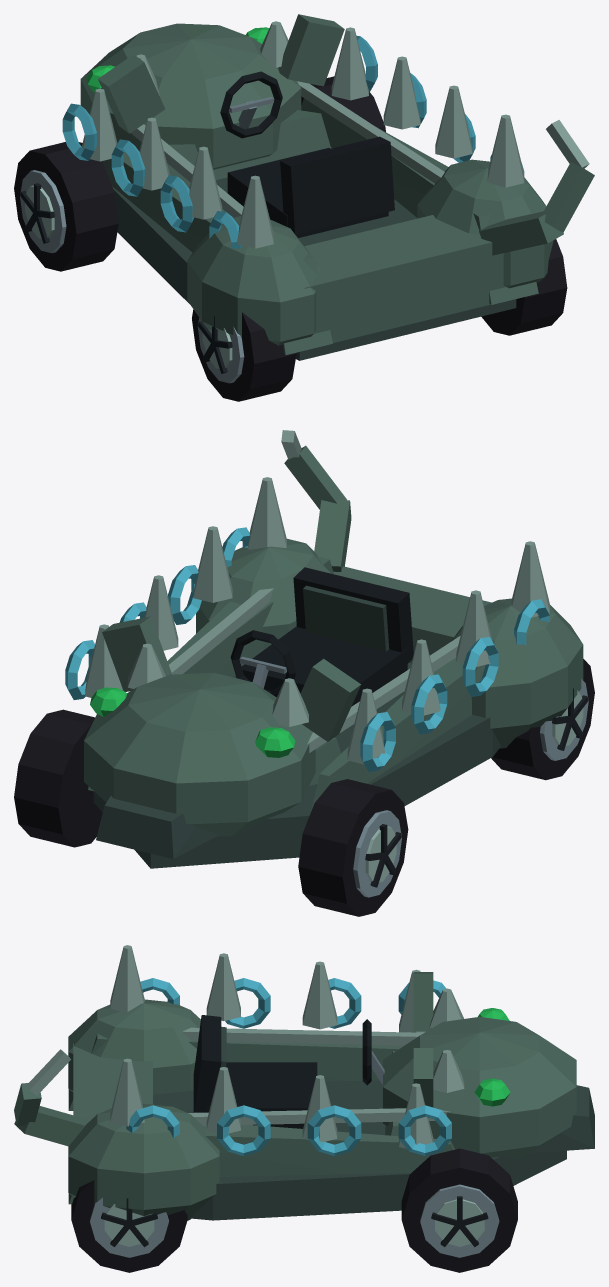
File: kart.glb
3 renders of one model, top to bottom at view 1: azimuth 30°, elevation 25°; view 2: azimuth 150°, elevation 25°; view 3: azimuth 270°, elevation 25°, orthographic. The views are drawn at different scales.
Parts seen in each view (by area): view 1: identity-beast-beast-sculpted-prow-and-haunches, identity-beast-motif-spines, identity-beast-driver-cockpit, wheel-front-left, wheel-rear-left, identity-beast-motif-water, identity-beast-motif-tail, wheel-rear-right, wheel-front-right; view 2: identity-beast-beast-sculpted-prow-and-haunches, identity-beast-driver-cockpit, identity-beast-motif-spines, wheel-front-left, wheel-front-right, identity-beast-motif-water, wheel-rear-left, identity-beast-motif-tail; view 3: identity-beast-beast-sculpted-prow-and-haunches, wheel-front-right, identity-beast-motif-spines, identity-beast-motif-water, identity-beast-driver-cockpit, wheel-rear-right, identity-beast-motif-tail.
Part boxes in pixels (x1,y1,x2,y2): identity-beast-beast-sculpted-prow-and-haunches: (80, 14, 553, 360); identity-beast-motif-spines: (81, 27, 524, 248); identity-beast-driver-cockpit: (220, 71, 394, 237); wheel-front-left: (14, 142, 118, 271); wheel-rear-left: (192, 309, 296, 401); identity-beast-motif-water: (62, 35, 524, 248); identity-beast-motif-tail: (479, 120, 594, 255); wheel-rear-right: (481, 239, 567, 335); wheel-front-right: (301, 76, 385, 131); identity-beast-beast-sculpted-prow-and-haunches: (84, 538, 583, 868); identity-beast-driver-cockpit: (230, 567, 413, 706); identity-beast-motif-spines: (84, 477, 549, 764); wheel-front-left: (298, 779, 408, 916); wheel-front-right: (14, 709, 102, 847); identity-beast-motif-water: (65, 527, 549, 771); wheel-rear-left: (491, 659, 594, 780); identity-beast-motif-tail: (281, 430, 351, 571); identity-beast-beast-sculpted-prow-and-haunches: (68, 972, 594, 1220); wheel-front-right: (401, 1148, 517, 1272); identity-beast-motif-spines: (110, 945, 433, 1148); identity-beast-motif-water: (126, 978, 451, 1156); identity-beast-driver-cockpit: (193, 1015, 384, 1128); wheel-rear-right: (71, 1180, 187, 1272); identity-beast-motif-tail: (14, 1049, 89, 1146).
Size of the model in its own units: 2.01 by 1.3 by 3.2.
